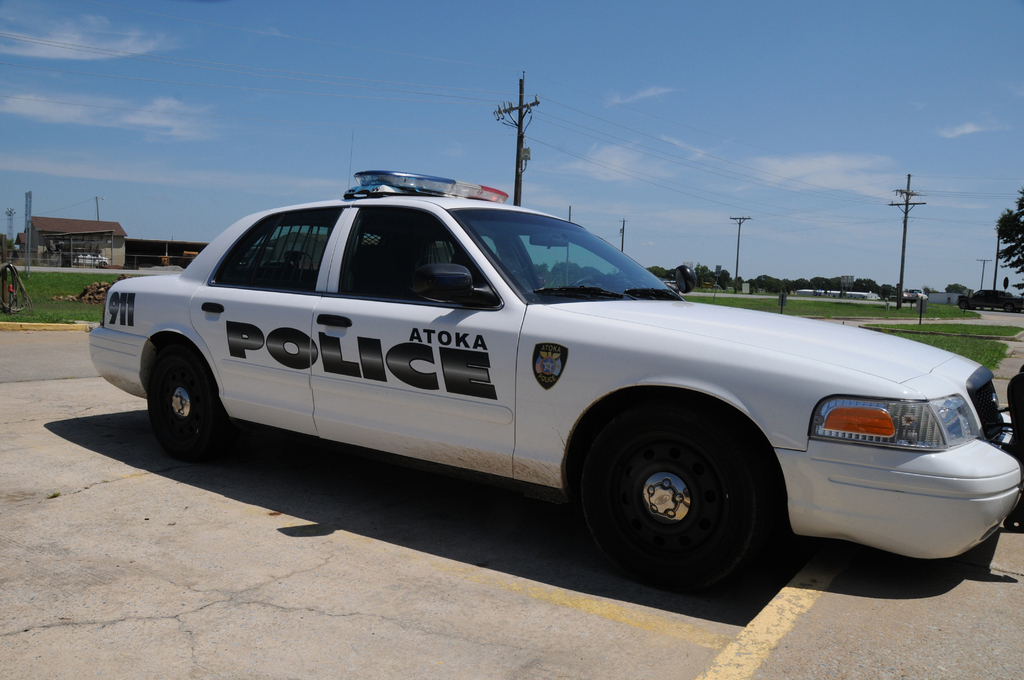Car: (87, 170, 1024, 588)
